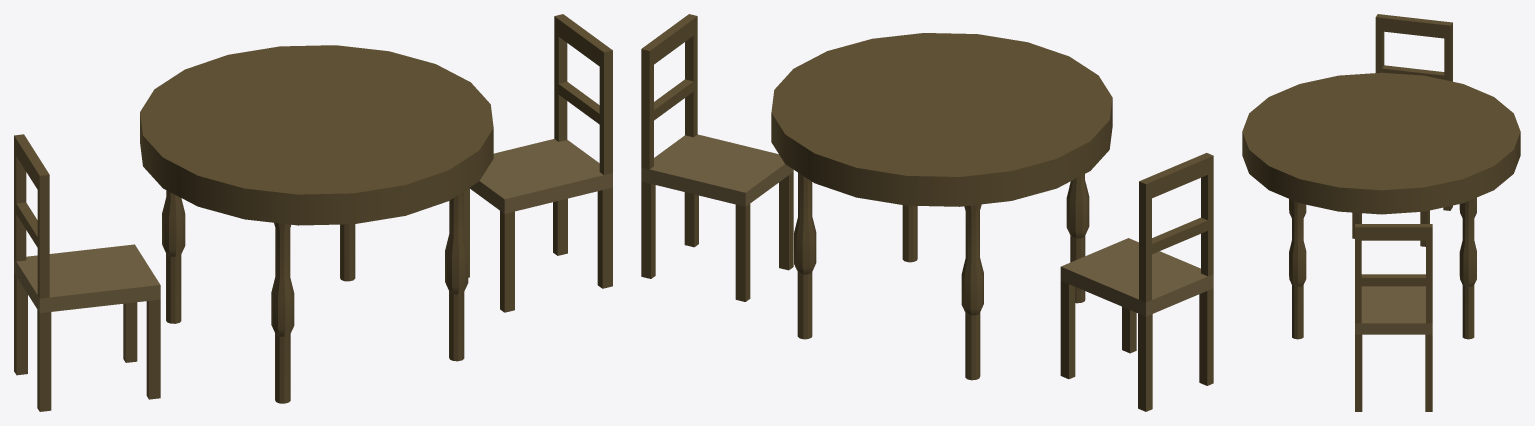
Rendered from Table.fbx.
3 renders of one model, left to right at view 1: azimuth 30°, elevation 25°; view 2: azimuth 150°, elevation 25°; view 3: azimuth 270°, elevation 25°, orthographic. The views are drawn at different scales.
Parts seen in each view (by area): view 1: polySurface143.001; view 2: polySurface143.001; view 3: polySurface143.001.
Boxes of the visible parts, x1,y1,x2,y2 form: polySurface143.001: [14, 14, 612, 411]; polySurface143.001: [641, 14, 1213, 411]; polySurface143.001: [1242, 14, 1520, 411].
Bounding box in the file's own units: 398 × 161 × 220.
